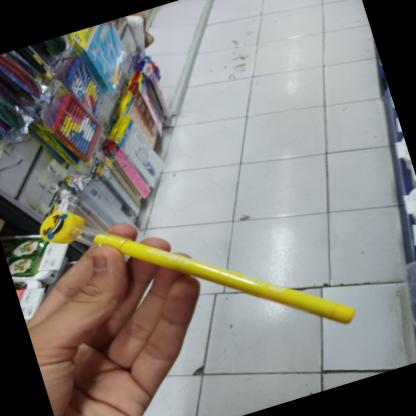pencil: (43, 211, 358, 324)
